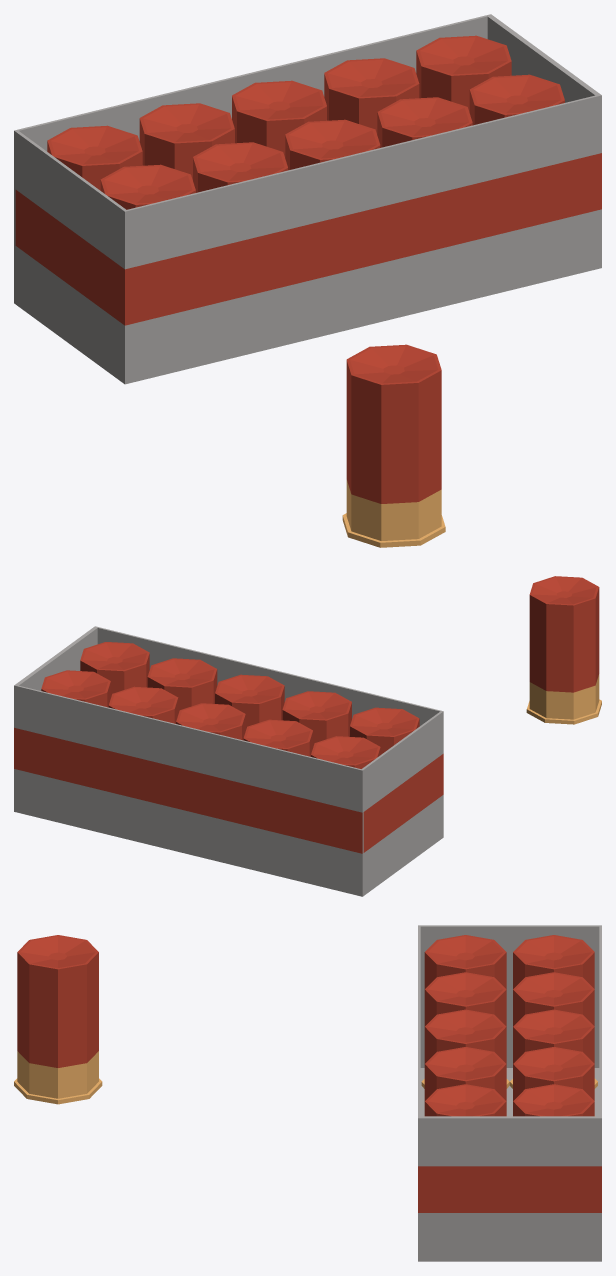
The model's file is drob.fbx.
The picture shows the model from 3 angles, top to bottom: view 1: azimuth 30°, elevation 25°; view 2: azimuth 150°, elevation 25°; view 3: azimuth 270°, elevation 25°; orthographic projection. The views are drawn at different scales.
Parts seen in each view (by area): view 1: drob, drob 1; view 2: drob, drob 1; view 3: drob, drob 1.
Part boxes in pixels (x1,y1,x2,y2): drob: (14, 14, 601, 384); drob 1: (342, 344, 445, 547); drob: (14, 626, 443, 896); drob 1: (526, 576, 601, 724); drob: (418, 925, 601, 1261); drob 1: (14, 935, 102, 1104).
Bounding box in the file's own units: 1118 × 387 × 1439.
1 material, 1 textured.
